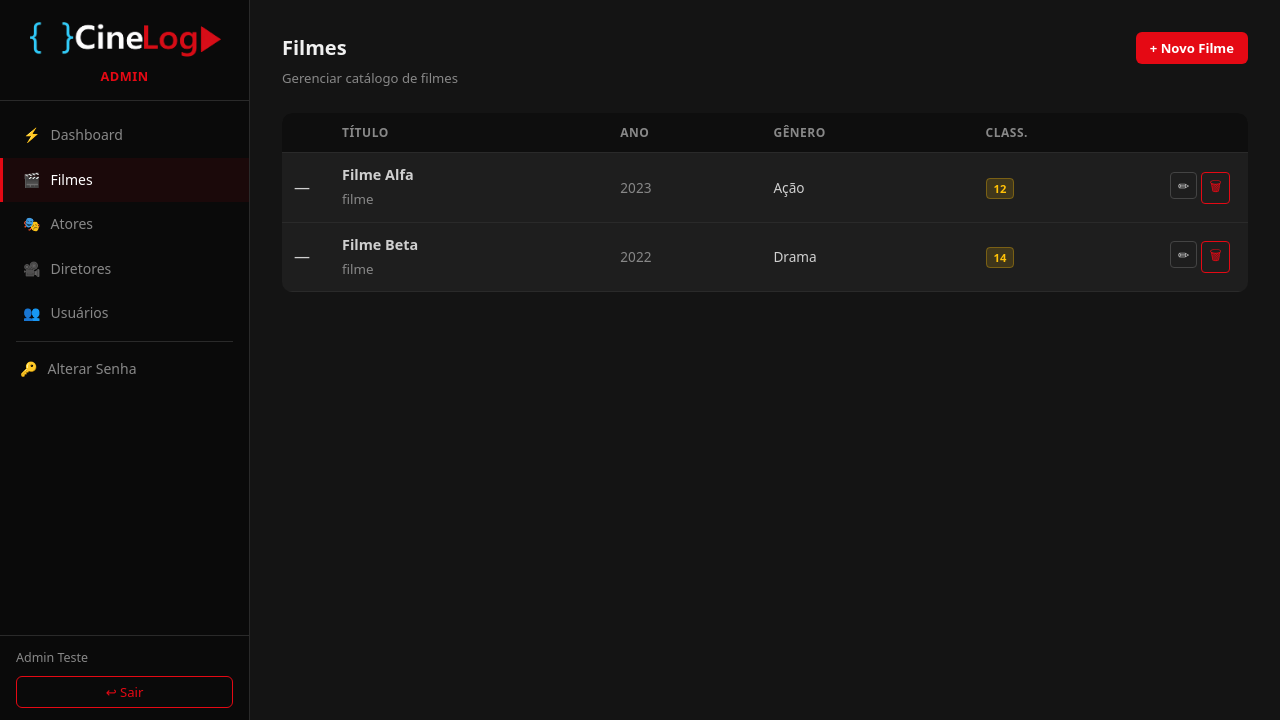
Scenario: Admin React — Filmes: excluir › abre modal de confirmação ao clicar em 🗑
The image size is (1280, 720).
What coordinates should you click on to do the following:
click the button titled "Excluir" in the row of "Filme Beta"
I would click on:
 (1215, 257)
Its box is [1201,241,1229,273].
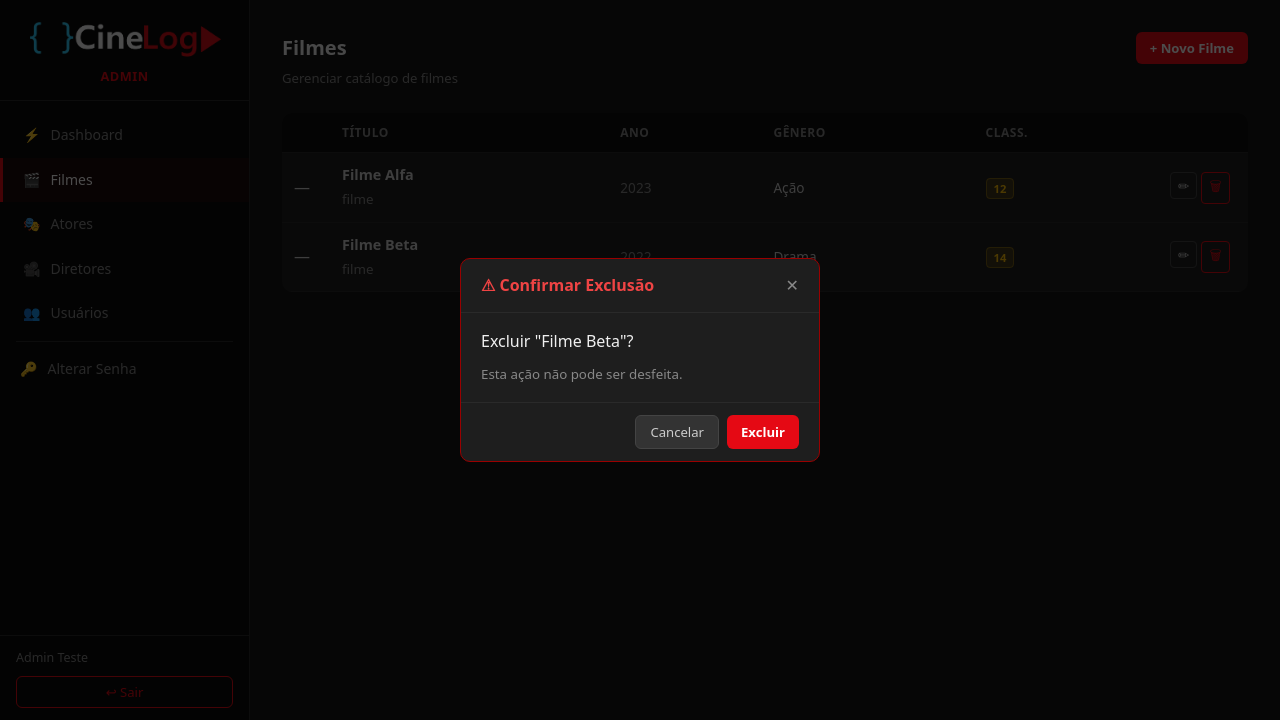
Expected: the text "Confirmar Exclusão" is shown, [481,274,654,296]
